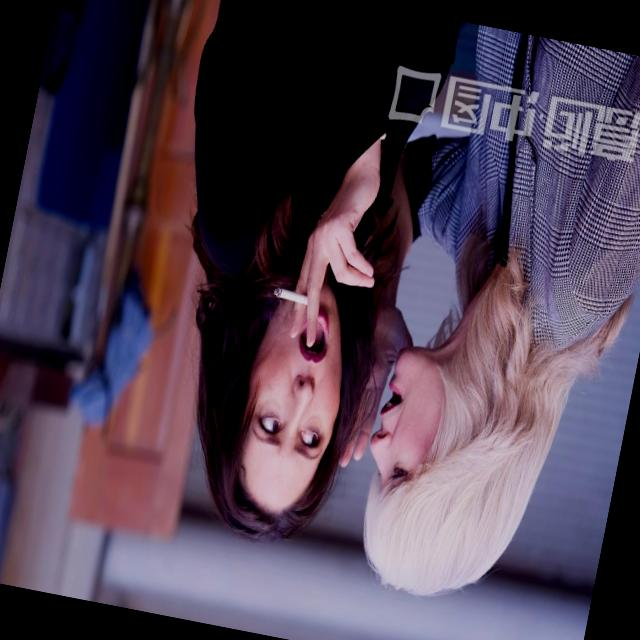smoke: (270, 282, 319, 314)
